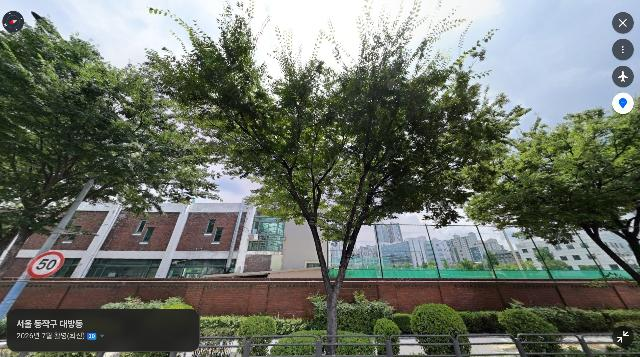other: (124, 0, 537, 356), (0, 11, 226, 276), (459, 99, 640, 289)
